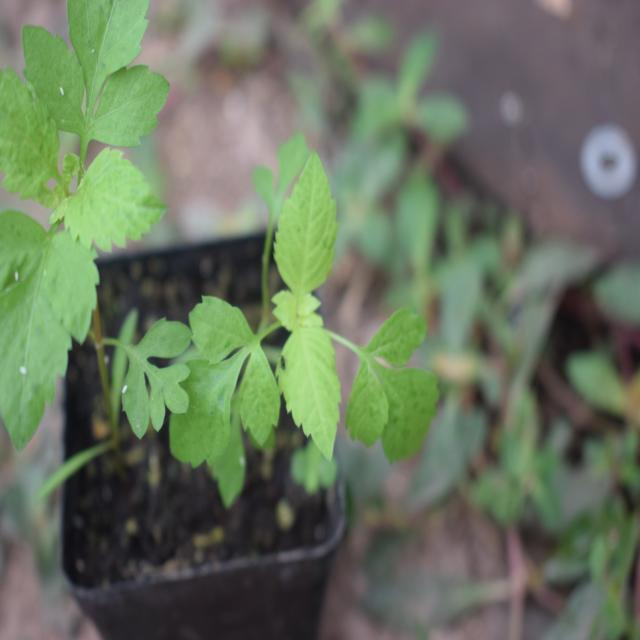Bidens pilosa: (163, 152, 443, 508), (0, 4, 181, 498)
